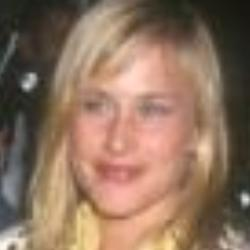face: (23, 3, 237, 239)
